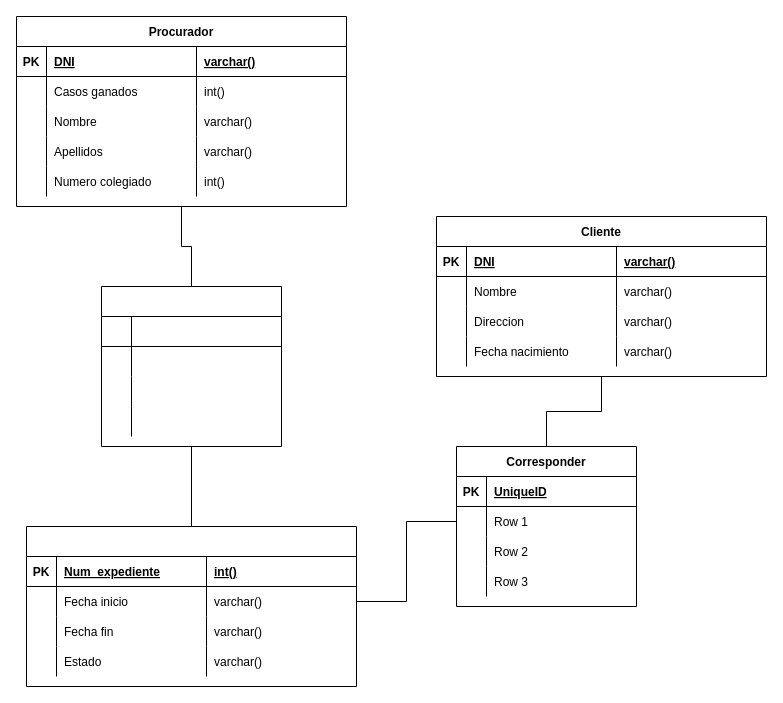
Some shapes in this 783 by 703 pixel diagram are drawn without their labels. The shapes that lost their labels are listed below. From the top down, each one's box as (x1, y1, x2, y2) in pixels, then its label:
(100, 286, 282, 446): Llevar
(26, 526, 356, 686): Asunto
